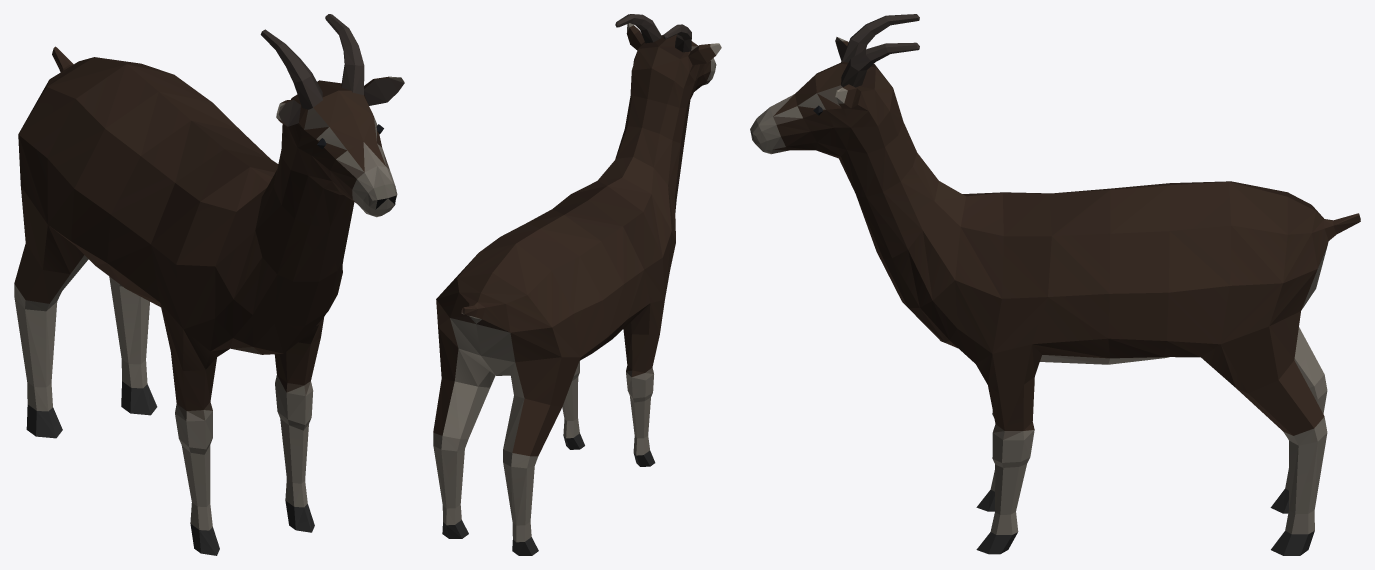
Rendered from goat_lod0.glb.
3 renders of one model, left to right at view 1: azimuth 30°, elevation 25°; view 2: azimuth 150°, elevation 25°; view 3: azimuth 270°, elevation 25°, orthographic. The views are drawn at different scales.
Parts seen in each view (by area): view 1: goat; view 2: goat; view 3: goat.
Boxes of the visible parts, box(x1,y1,x2,y2) form: goat: box(14, 14, 404, 555); goat: box(433, 14, 721, 555); goat: box(750, 14, 1360, 555).
Size of the model in its own units: 0.4272 by 1.25 by 1.38.
